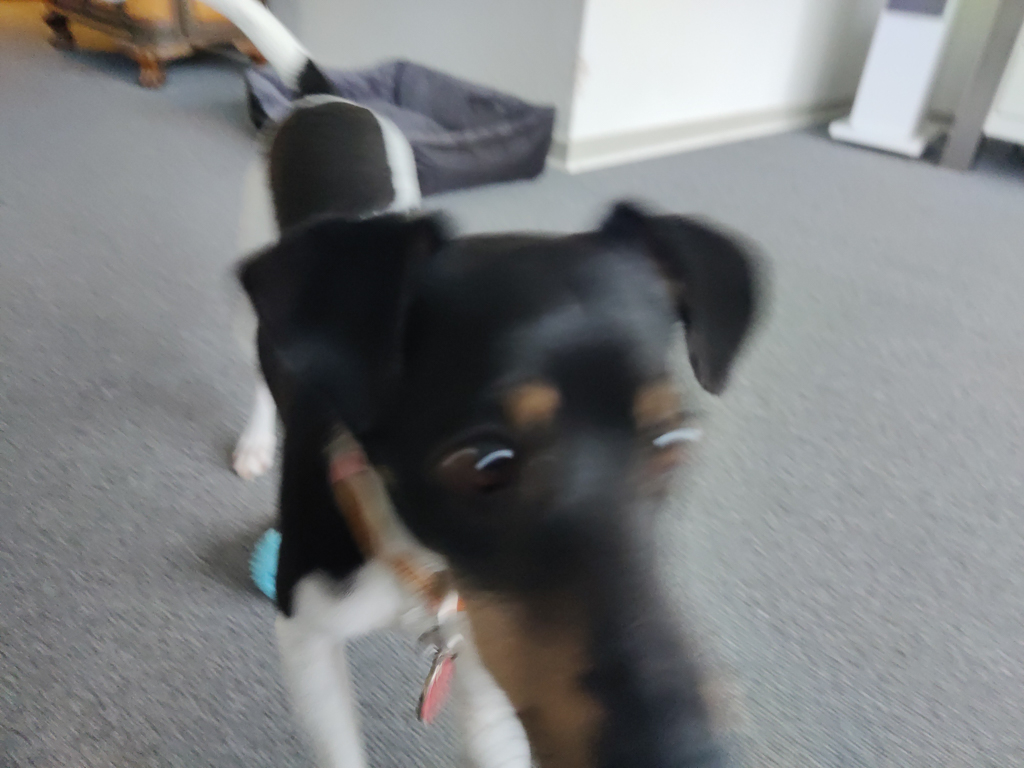Dog: (181, 0, 814, 768)
